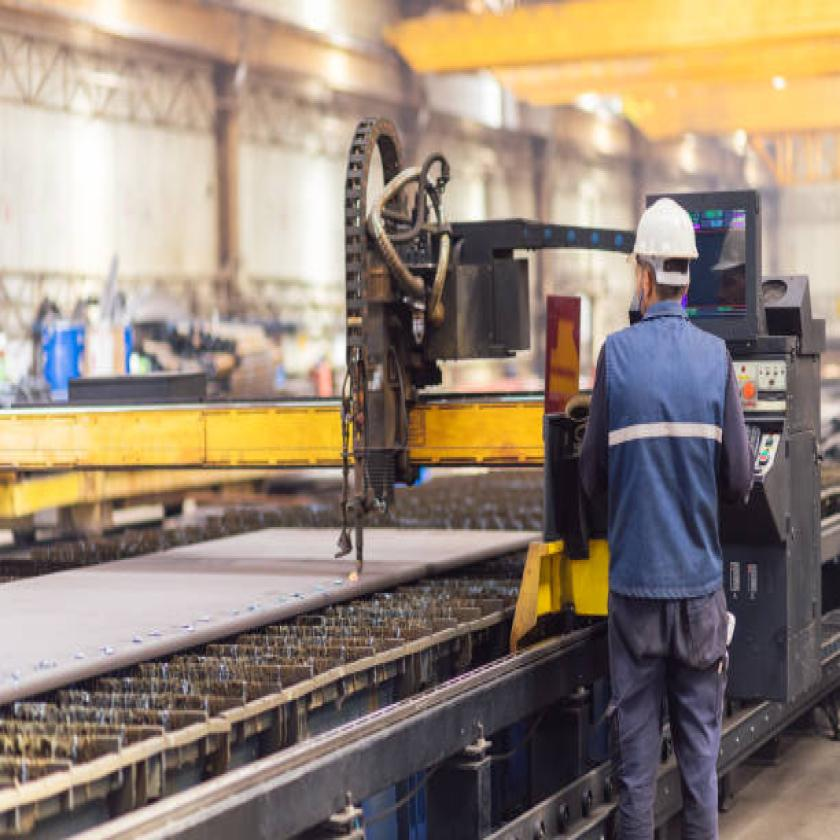Con_casco: (625, 204, 706, 355)
